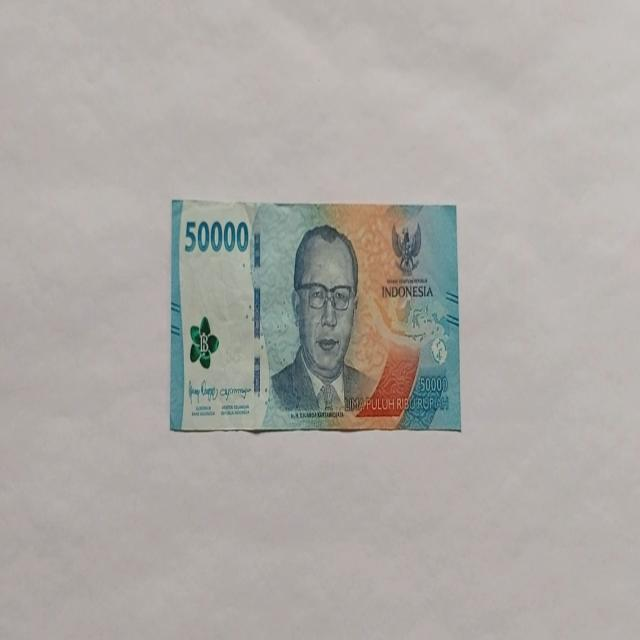lima puluh ribu rupiah: (169, 196, 461, 434), (263, 223, 377, 422)
